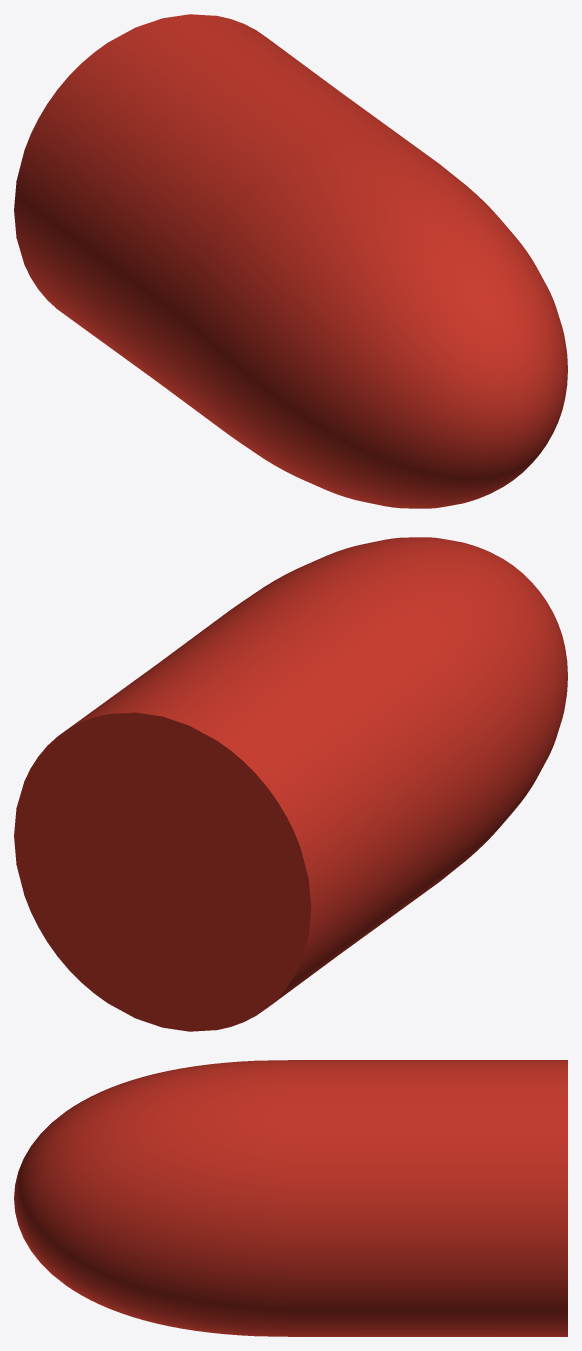
File: Bullet4.fbx
3 renders of one model, top to bottom at view 1: azimuth 30°, elevation 25°; view 2: azimuth 150°, elevation 25°; view 3: azimuth 270°, elevation 25°, orthographic. The views are drawn at different scales.
Parts seen in each view (by area): view 1: Body1; view 2: Body1; view 3: Body1.
Boxes of the visible parts, bbox=[...] form: Body1: bbox=[14, 14, 567, 508]; Body1: bbox=[14, 537, 567, 1031]; Body1: bbox=[14, 1060, 567, 1336].
Size of the model in its own units: 10 by 10 by 20.
